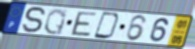6: (125, 14, 147, 42), (149, 17, 171, 43)
D: (92, 11, 122, 41)
E: (70, 11, 98, 38)
Q: (42, 8, 68, 37)
S: (20, 6, 47, 35)
